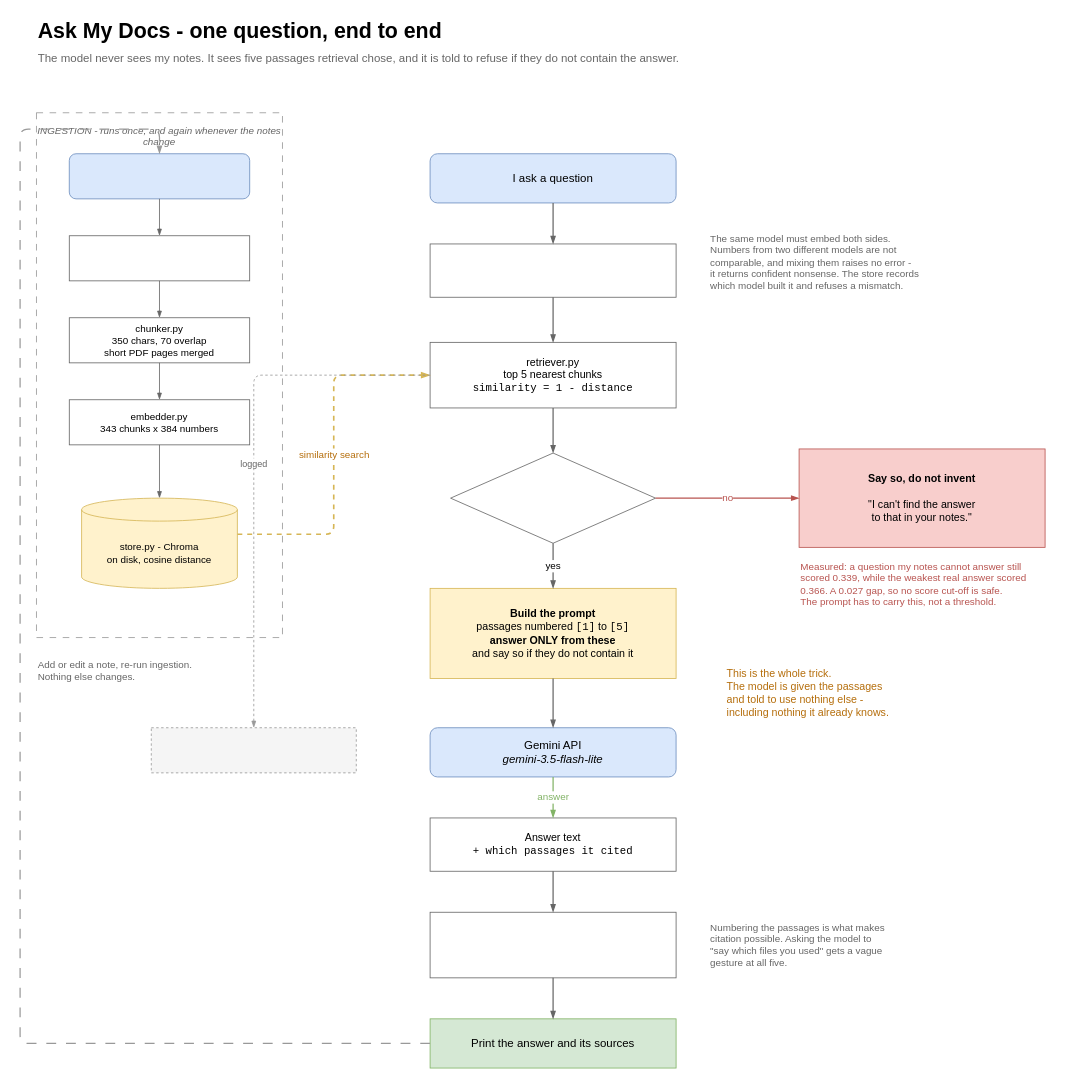
Some shapes in this 1092 by 1082 pixel diagram are drawn without their labels. Here are the shapes that lost their labels. From the top down, the centre of each, then its label:
(x=159, y=176): sample-notes/ 9 files, 4 formats, 85,567 chars
(x=159, y=258): loader.py .md .txt .pdf .docx .csv per file / per page / per row
(x=552, y=270): embedder.py the same model that built the index
(x=553, y=497): Did anything relevant come back?
(x=253, y=750): logs/retrieval.log question, settings, every score
(x=552, y=944): Resolve [1] back to project1-learnings.md#26 with its similarity score
